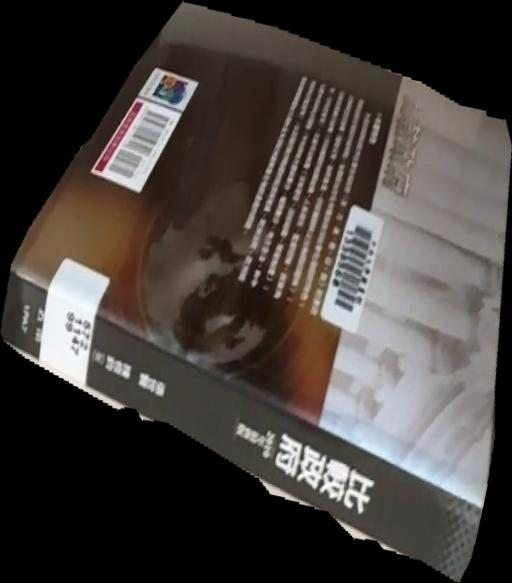flat: (1, 1, 512, 583)
